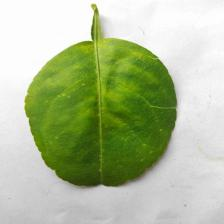greening: (56, 58, 156, 136)
